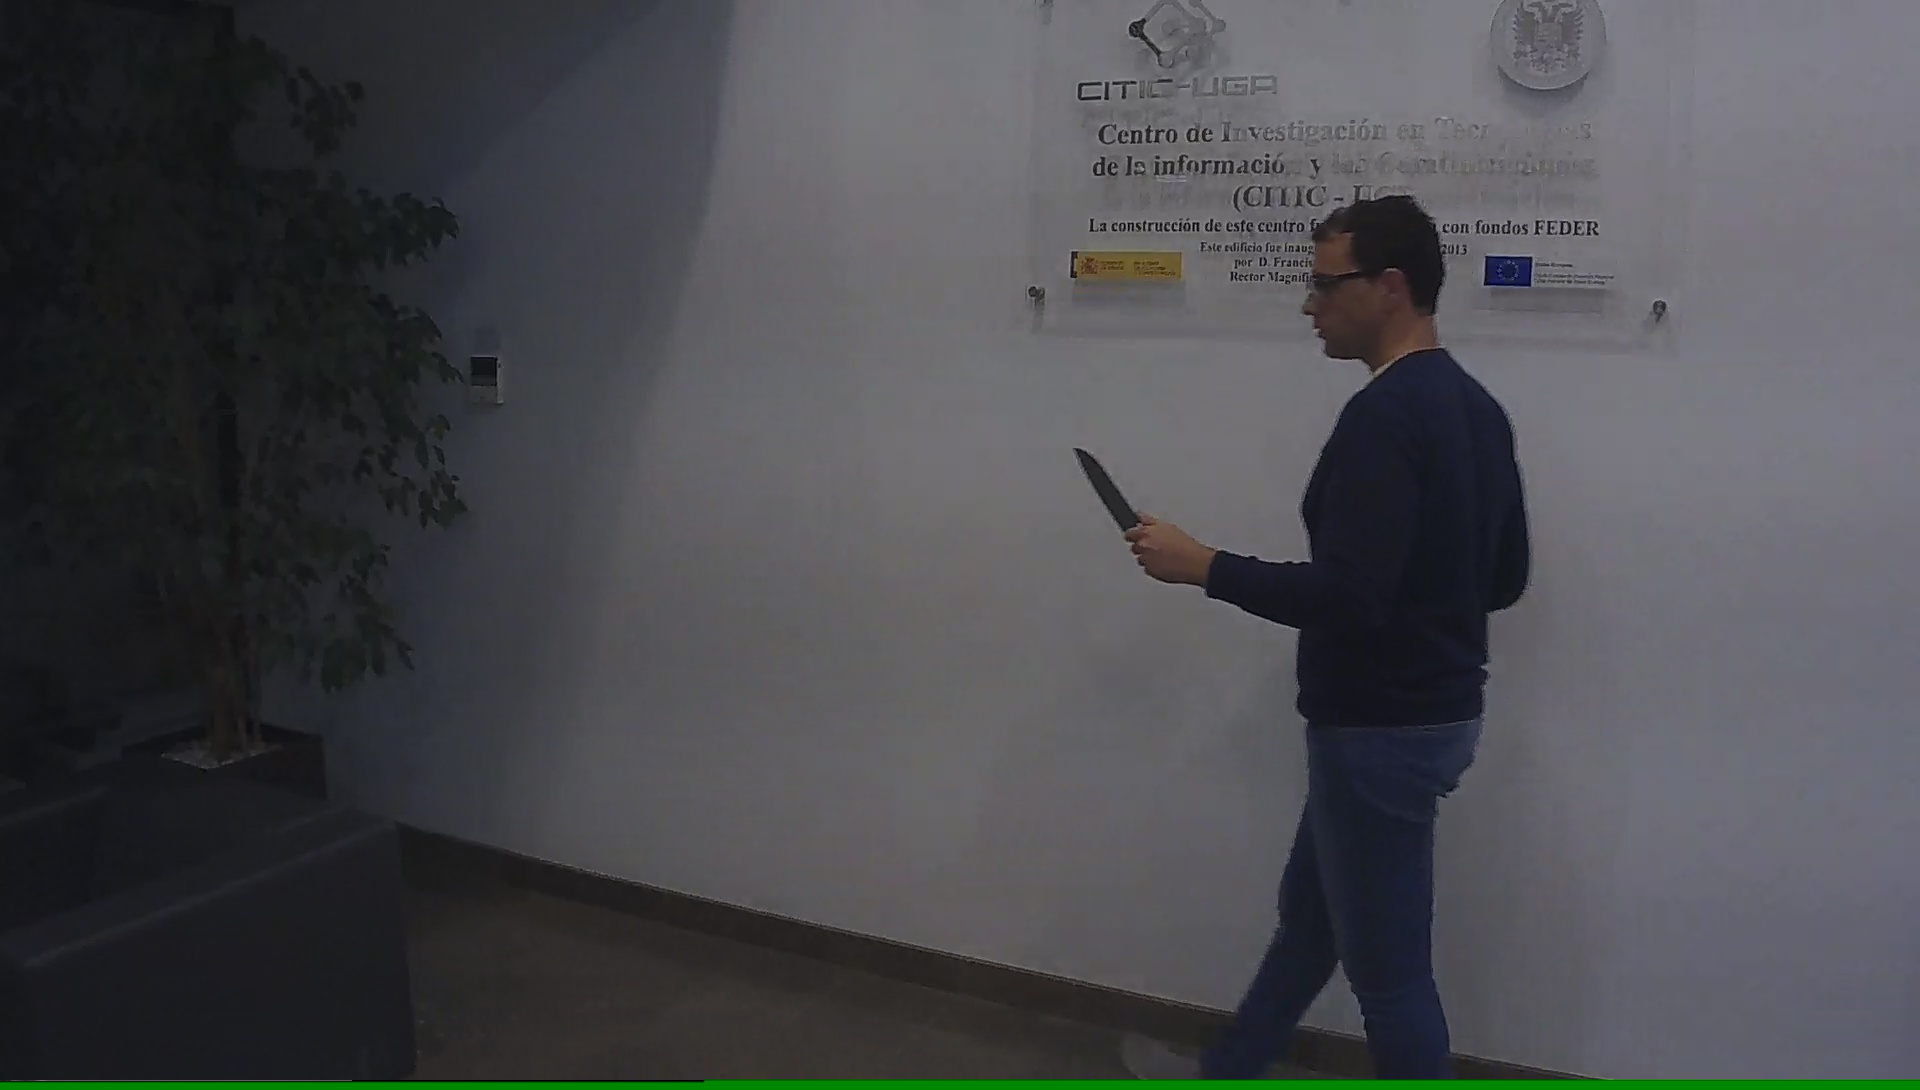knife: (1068, 442, 1163, 569)
